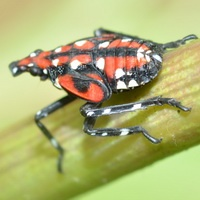insect: (9, 28, 196, 172)
